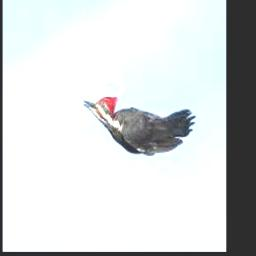Woodpecker: (84, 96, 197, 154)
